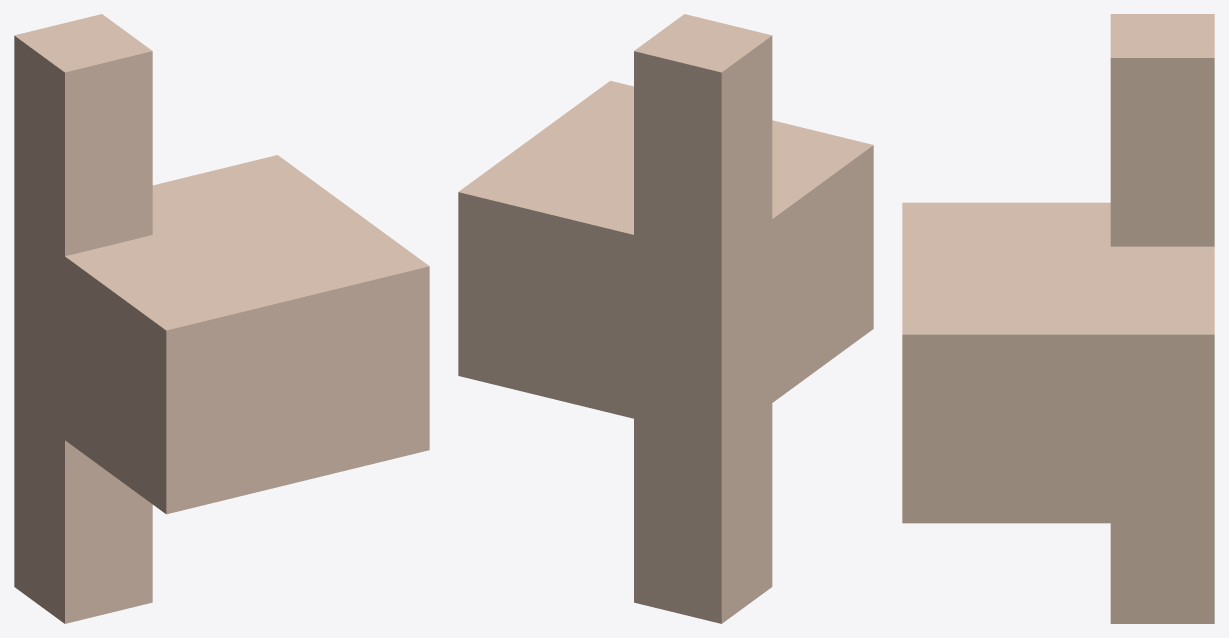
The model's file is greek_wall_divider_2_corner.fbx.
3 views of the same model, side by side, from view 1: azimuth 30°, elevation 25°; view 2: azimuth 150°, elevation 25°; view 3: azimuth 270°, elevation 25° (orthographic). The views are drawn at different scales.
Visible parts, largest first — view 1: Cube.025; view 2: Cube.025; view 3: Cube.025.
Part boxes in pixels (left/top/right/bottom): Cube.025: left=14, top=14, right=429, bottom=623; Cube.025: left=458, top=14, right=873, bottom=623; Cube.025: left=902, top=14, right=1214, bottom=623.
Size of the model in its own units: 30 by 60 by 30.
